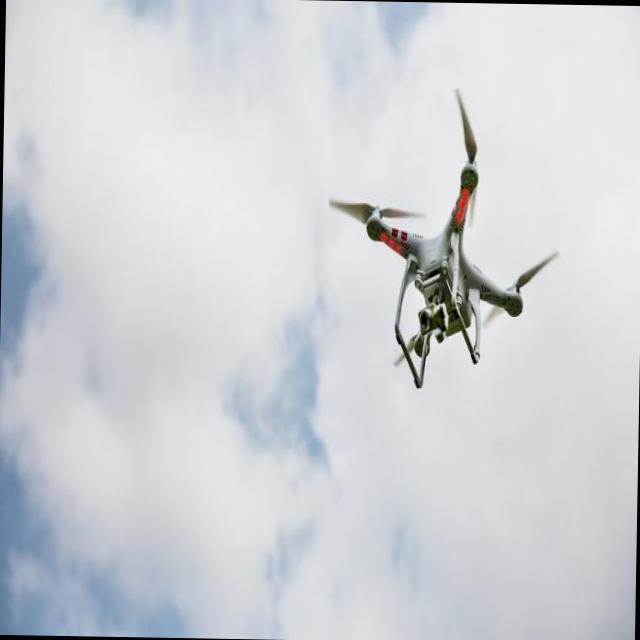drone: (362, 127, 526, 394)
